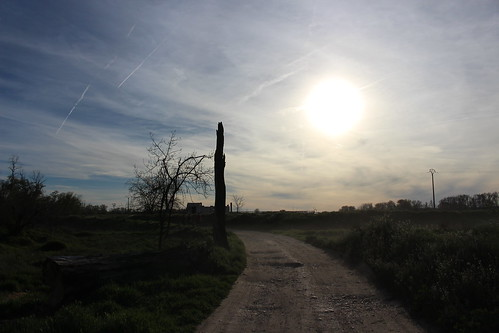grass: (1, 204, 228, 333), (383, 207, 499, 323)
road: (226, 224, 423, 333)
sky: (1, 1, 495, 190)
sun: (291, 71, 382, 144)
tree: (129, 135, 217, 251)
